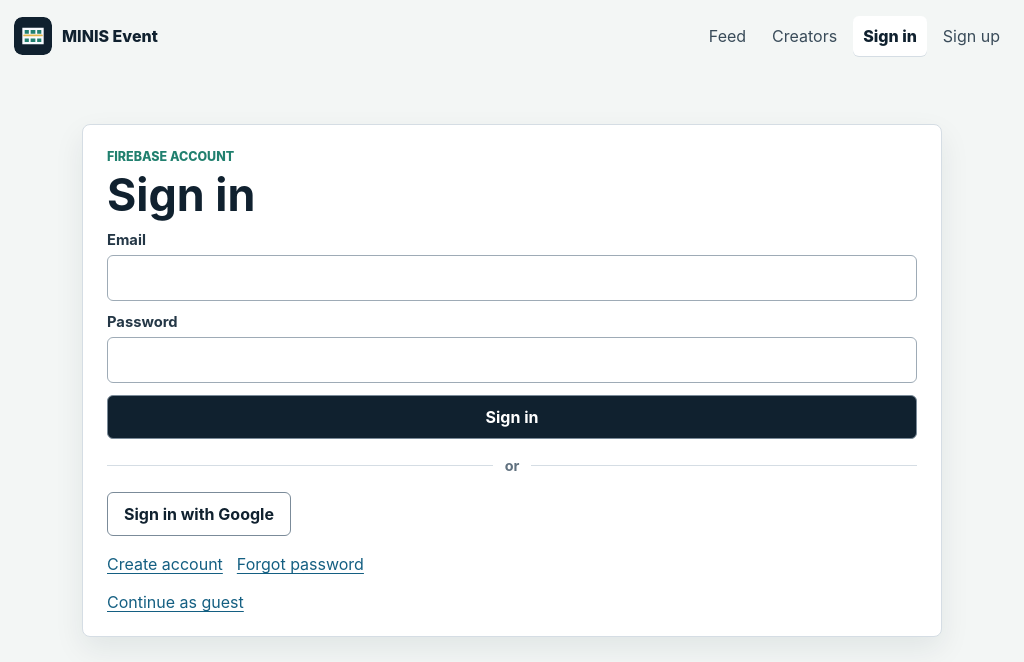
AppRoutes authentication routes › signs in, bootstraps, and returns to the intended destination
In the field labelled "Email": (512, 278) [107, 255, 917, 301], type "viewer@example.com"
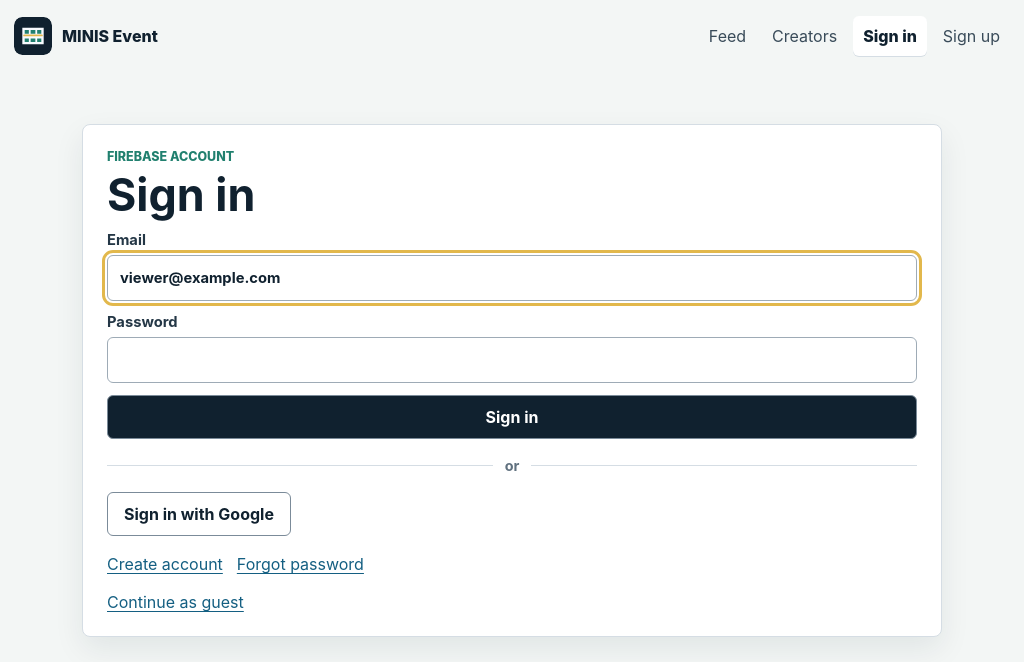
In the password field labelled "Password": (512, 360) [107, 337, 917, 383], type "prepared-password"
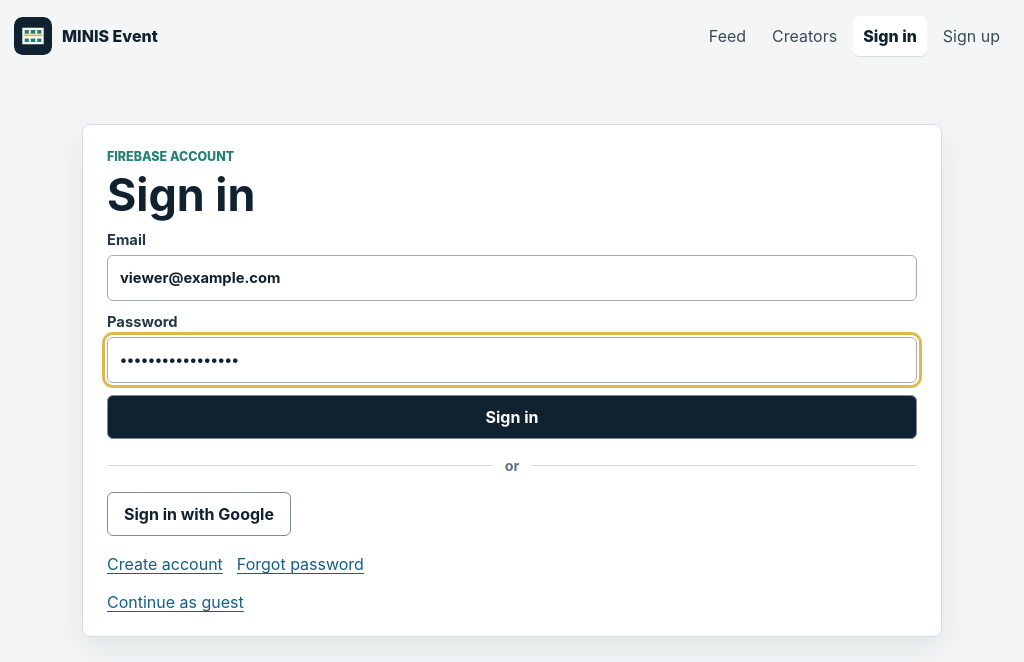
Click the button "Sign in": (512, 417) [107, 395, 917, 439]
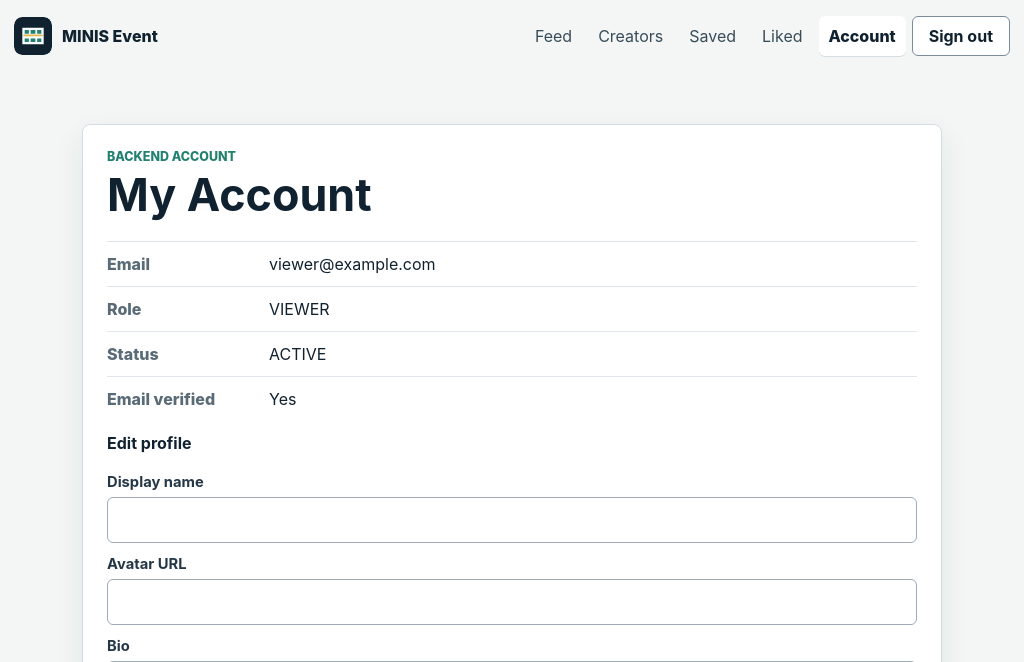
Now the heading "My Account" is shown, box [107, 168, 372, 222]
Now the text "VIEWER" is shown, box [269, 299, 330, 319]
Now the link "guest" is gone
